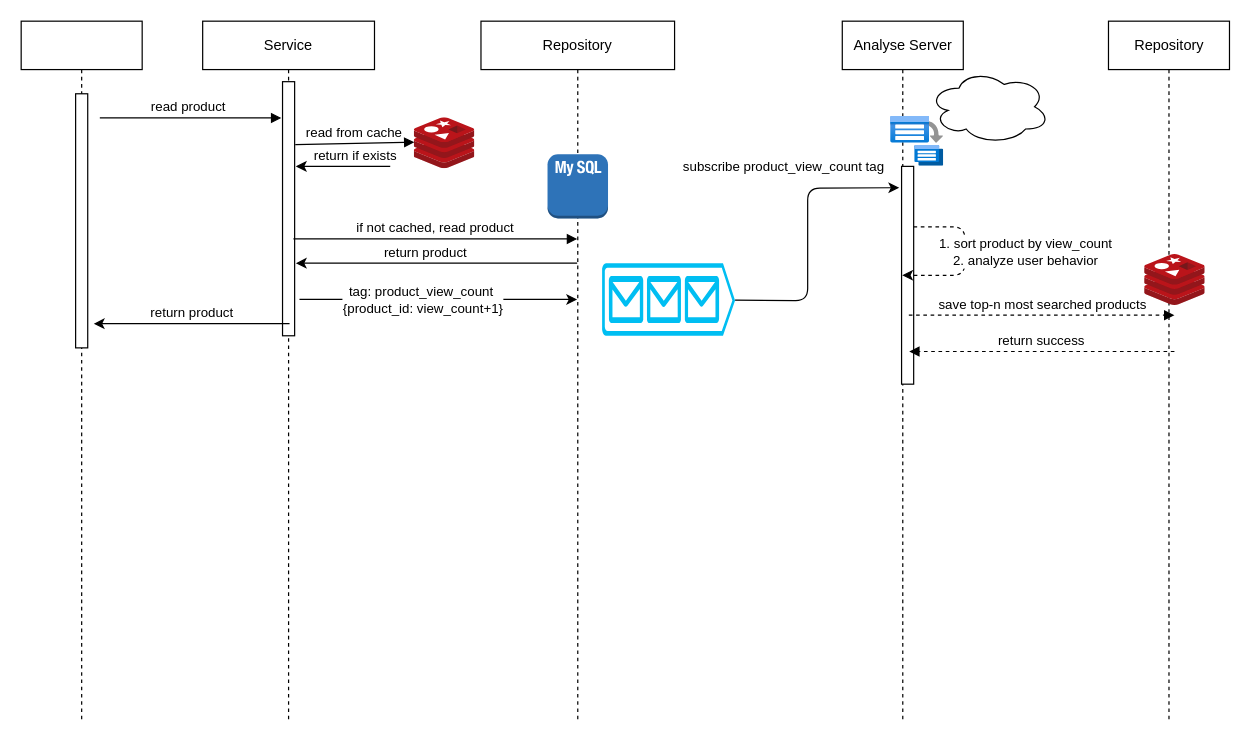
Image size: 1251x744. Some labels were removed from this diagram. The shapes that lost their labels are listed below. From the top down, each one's centre as x and y in pixels, then its label:
(x=988, y=106): batch every 20m
(x=81, y=371): API
